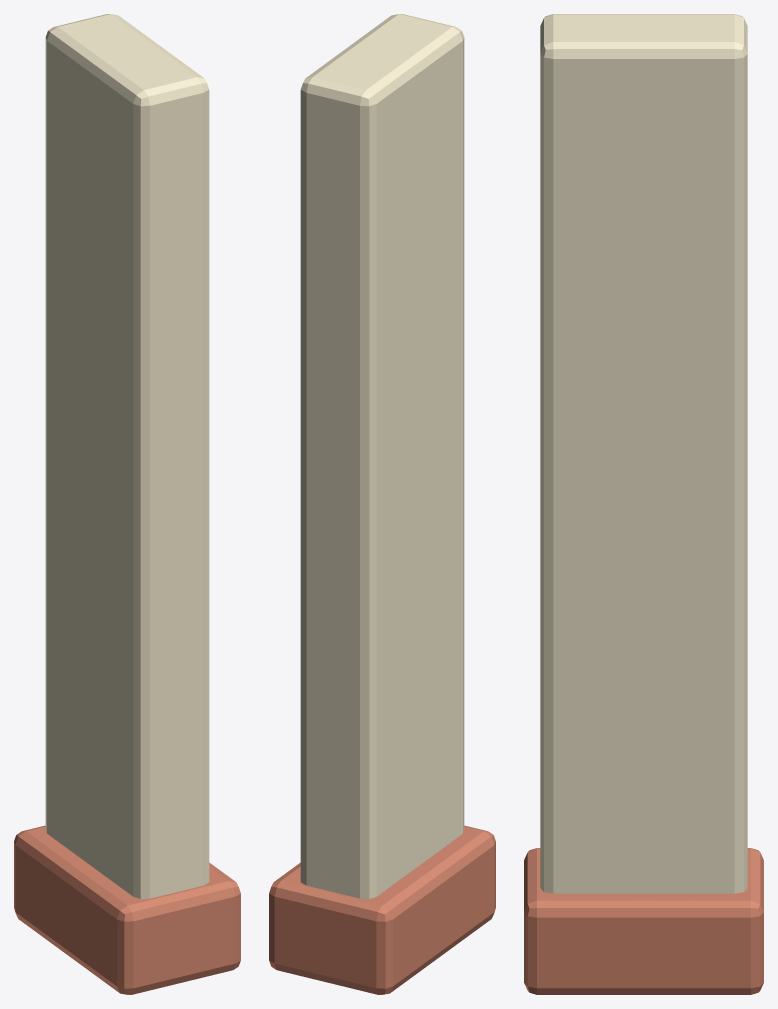
Rendered from ShadeFin.fbx.
3 views of the same model, side by side, from view 1: azimuth 30°, elevation 25°; view 2: azimuth 150°, elevation 25°; view 3: azimuth 270°, elevation 25° (orthographic). The views are drawn at different scales.
Parts seen in each view (by area): view 1: Shade fin, Terracotta fin foot; view 2: Shade fin, Terracotta fin foot; view 3: Shade fin, Terracotta fin foot.
Part boxes in pixels (x1,y1,x2,y2): Shade fin: [45, 14, 209, 898]; Terracotta fin foot: [14, 825, 240, 994]; Shade fin: [300, 14, 464, 898]; Terracotta fin foot: [269, 825, 495, 994]; Shade fin: [540, 14, 747, 893]; Terracotta fin foot: [524, 848, 763, 994].
Size of the model in its own units: 23 by 160 by 37.
